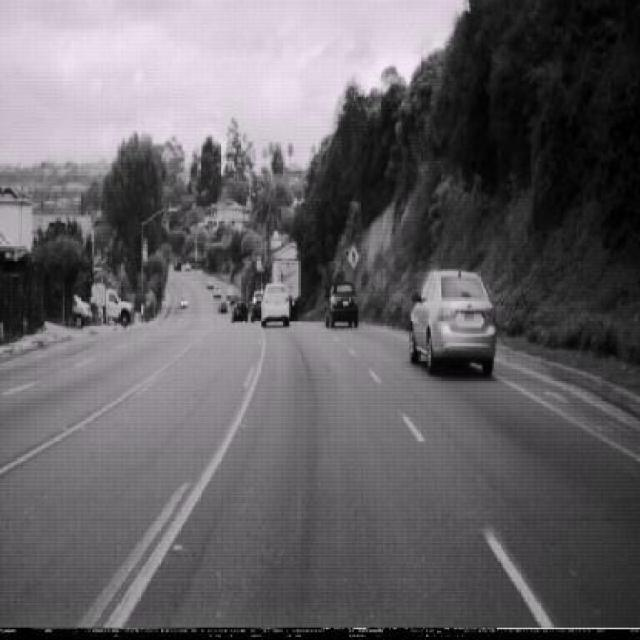pedestrianCrossing: (346, 243, 360, 271)
